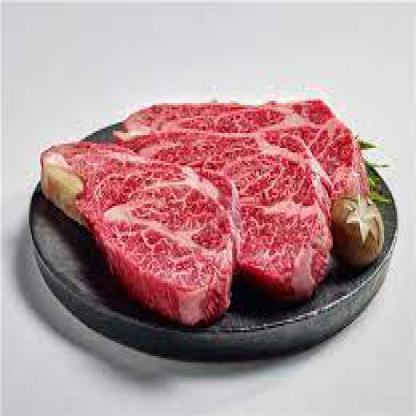beef: (41, 144, 233, 315), (192, 141, 333, 281), (144, 105, 362, 195)
